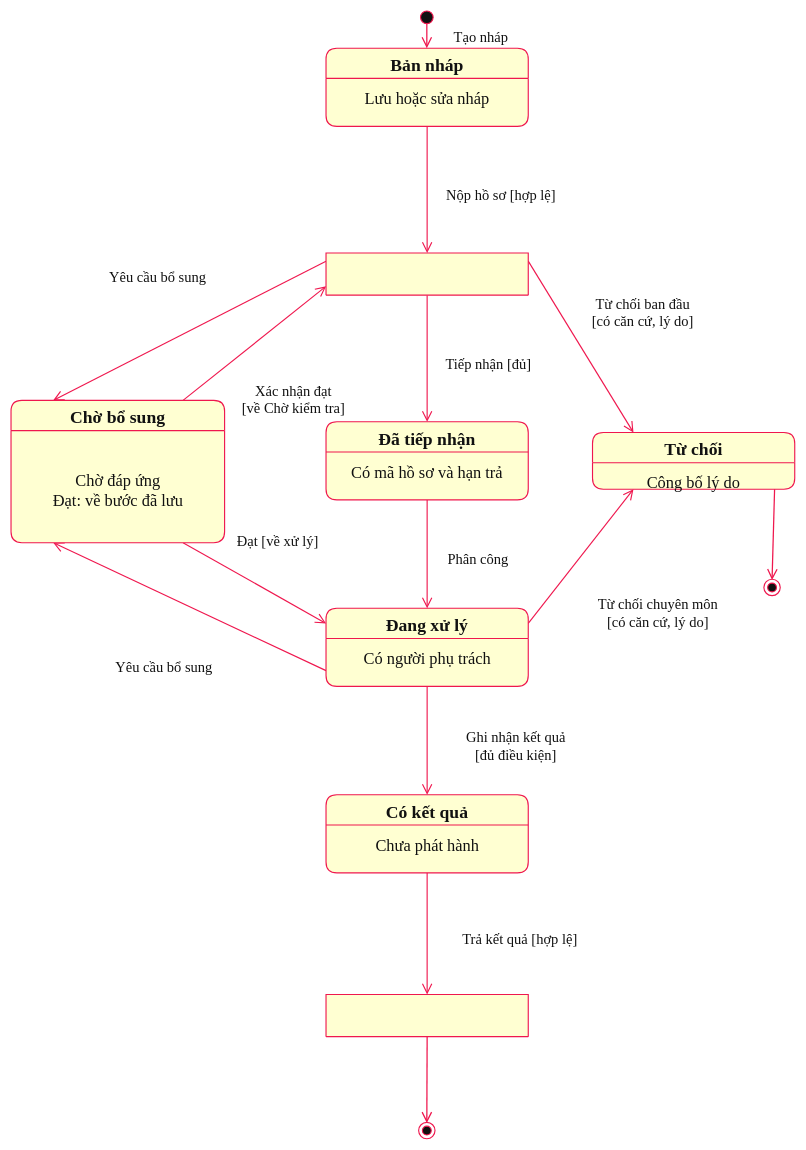
Image size: 806x1150. Some labels were removed from this diagram. Each missing label, with the centre of its shape:
Chờ kiểm tra: the point at 427,273
Đã trả kết quả: the point at 427,1015
